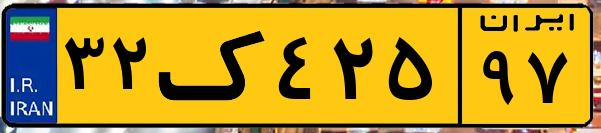2: (330, 28, 385, 110), (110, 28, 158, 98)
3: (57, 26, 110, 100)
4: (270, 28, 330, 110)
5: (385, 28, 445, 110)
7: (525, 38, 570, 115)
9: (475, 38, 525, 113)
ک: (158, 12, 270, 120)
